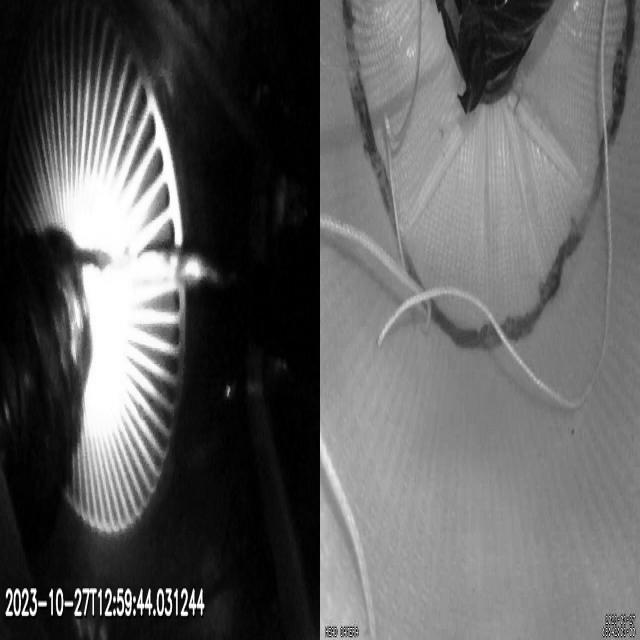red-circle: (343, 2, 636, 346)
